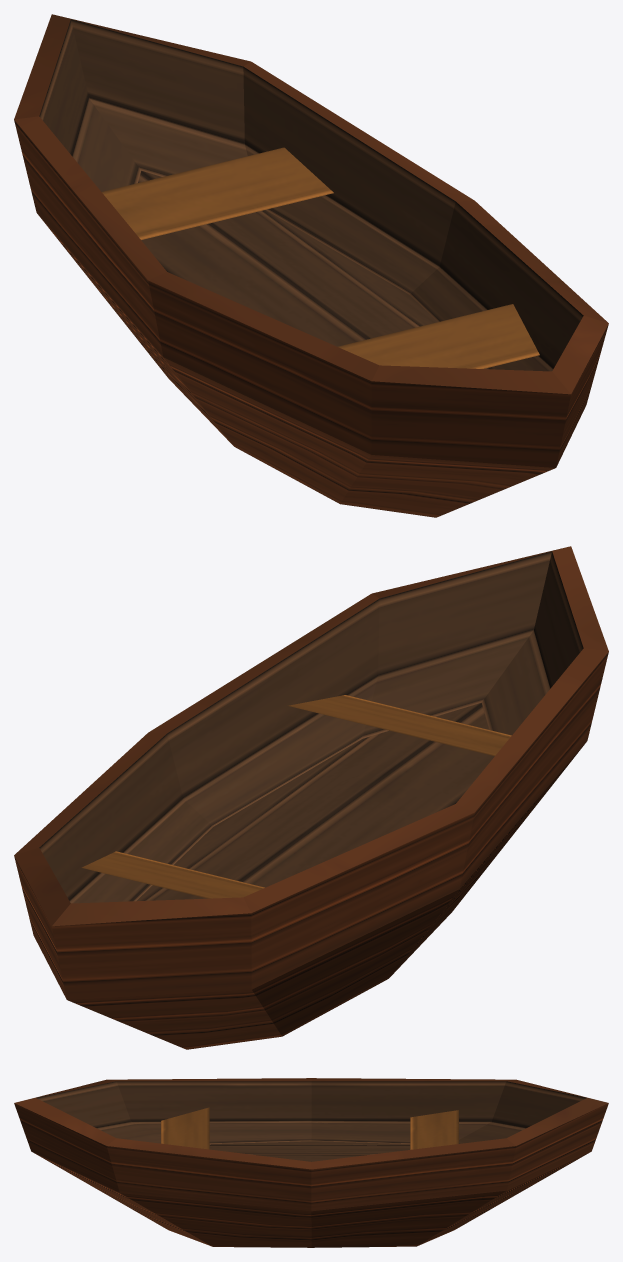
The model's file is co_Boat06.fbx.
The picture shows the model from 3 angles, top to bottom: view 1: azimuth 30°, elevation 25°; view 2: azimuth 150°, elevation 25°; view 3: azimuth 270°, elevation 25°; orthographic projection. The views are drawn at different scales.
Visible parts, largest first — view 1: Boat06; view 2: Boat06; view 3: Boat06.
Part boxes in pixels (x1,y1,x2,y2): Boat06: (14, 14, 608, 517); Boat06: (14, 546, 608, 1049); Boat06: (14, 1078, 608, 1247).
Size of the model in its own units: 822 by 560 by 2262.
